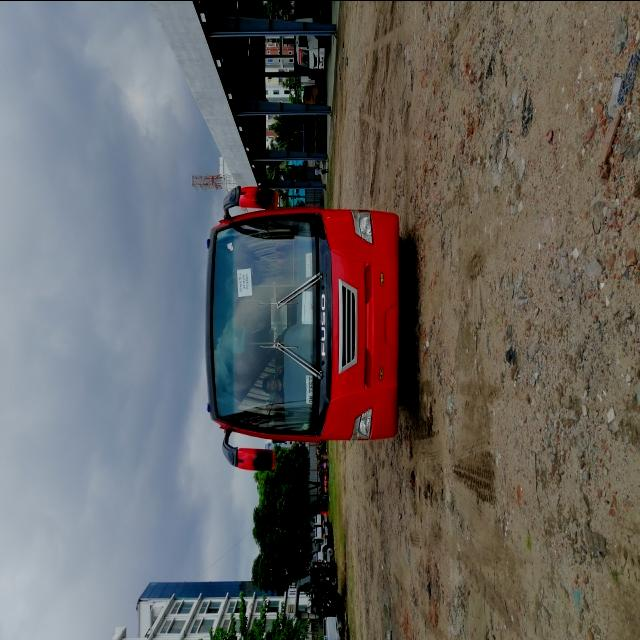bus: (183, 143, 428, 496)
